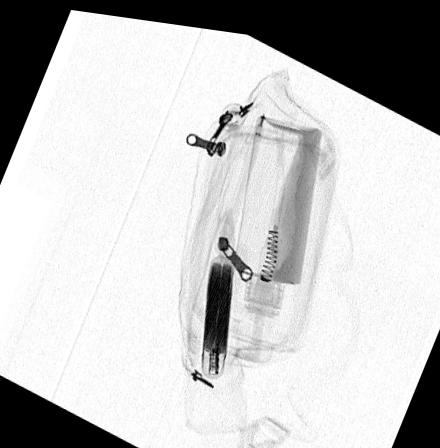Powerbank: (198, 251, 236, 373)
